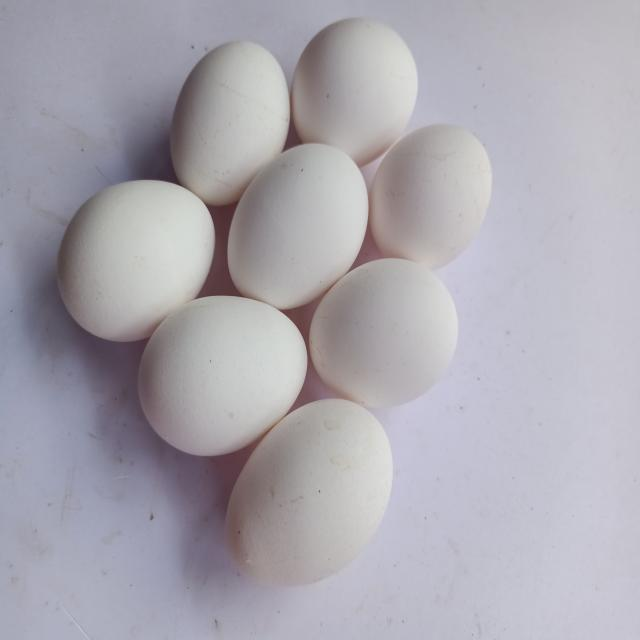Egg: (225, 399, 393, 586), (138, 296, 307, 456), (56, 180, 215, 341), (228, 143, 369, 309), (309, 258, 458, 407), (170, 40, 290, 205), (291, 17, 418, 165), (369, 123, 492, 269)
